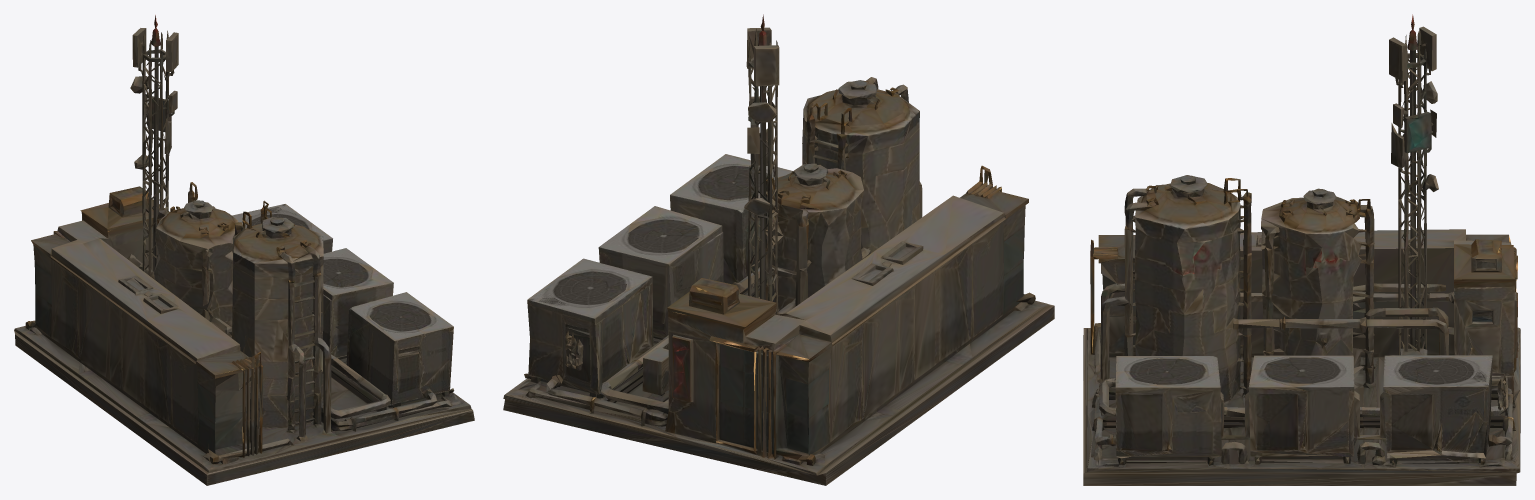
The picture shows the model from 3 angles, left to right: view 1: azimuth 30°, elevation 25°; view 2: azimuth 150°, elevation 25°; view 3: azimuth 270°, elevation 25°; orthographic projection. The views are drawn at different scales.
Parts seen in each view (by area): view 1: s08; view 2: s08; view 3: s08.
Part boxes in pixels (<box>): s08: <box>14,15,474,485</box>; s08: <box>503,14,1054,485</box>; s08: <box>1083,14,1520,485</box>.
Bounding box in the file's own units: 6.6 × 8 × 8.37.
1 material, 1 textured.
